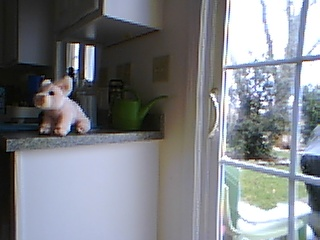piggy: (32, 75, 91, 137)
